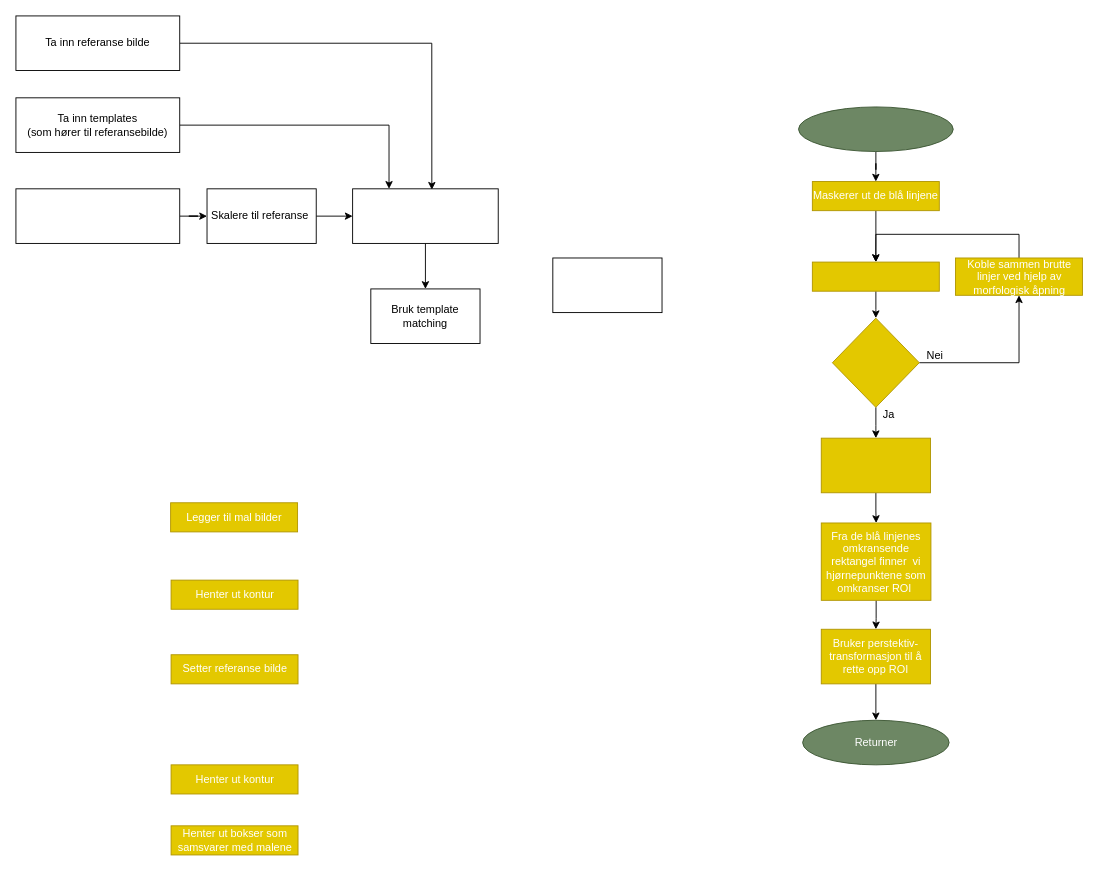
The diagram is 1098 pixels wide and 871 high, and some of its shapes have lost their labels. Each missing label, with the centre of its shape:
"Er linjene så lange de skal være?" goes at [875,362].
"Finn de to største konturene" goes at [875,276].
"Finner minste omkransende rektangel for hver av de blå linjene" goes at [875,465].
"Hent ut kontur av bilde" goes at [425,215].
"Kontur" goes at [607,285].
"Object.remove()" goes at [875,129].
"Ta inn nytt bilde" goes at [97,215].
